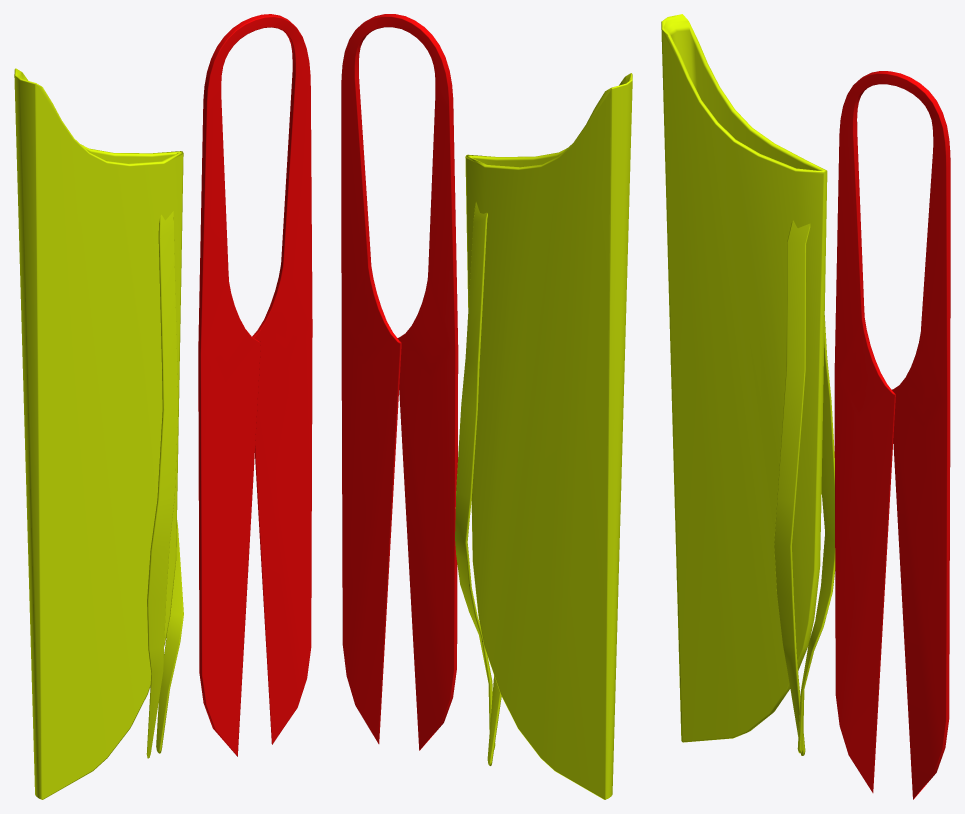
The model's file is Rusty_Forged_Scissors_FBX.fbx.
3 views of the same model, side by side, from view 1: azimuth 30°, elevation 25°; view 2: azimuth 150°, elevation 25°; view 3: azimuth 330°, elevation 25° (orthographic).
Parts seen in each view (by area): view 1: Cover1, Scissors1; view 2: Cover1, Scissors1; view 3: Cover1, Scissors1.
Boxes of the visible parts, x1=… form: Cover1: x1=14, y1=68, x2=183, y2=799; Scissors1: x1=198, y1=14, x2=312, y2=756; Cover1: x1=455, y1=73, x2=632, y2=799; Scissors1: x1=341, y1=14, x2=458, y2=750; Cover1: x1=661, y1=14, x2=835, y2=755; Scissors1: x1=834, y1=71, x2=950, y2=799.
Bounding box in the file's own units: 4.78 × 11.49 × 0.7391.
